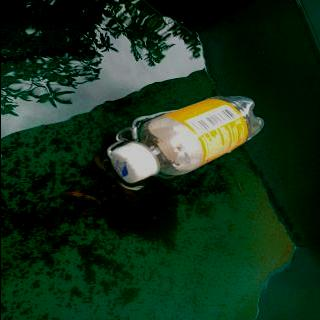bottle: (106, 95, 266, 184)
